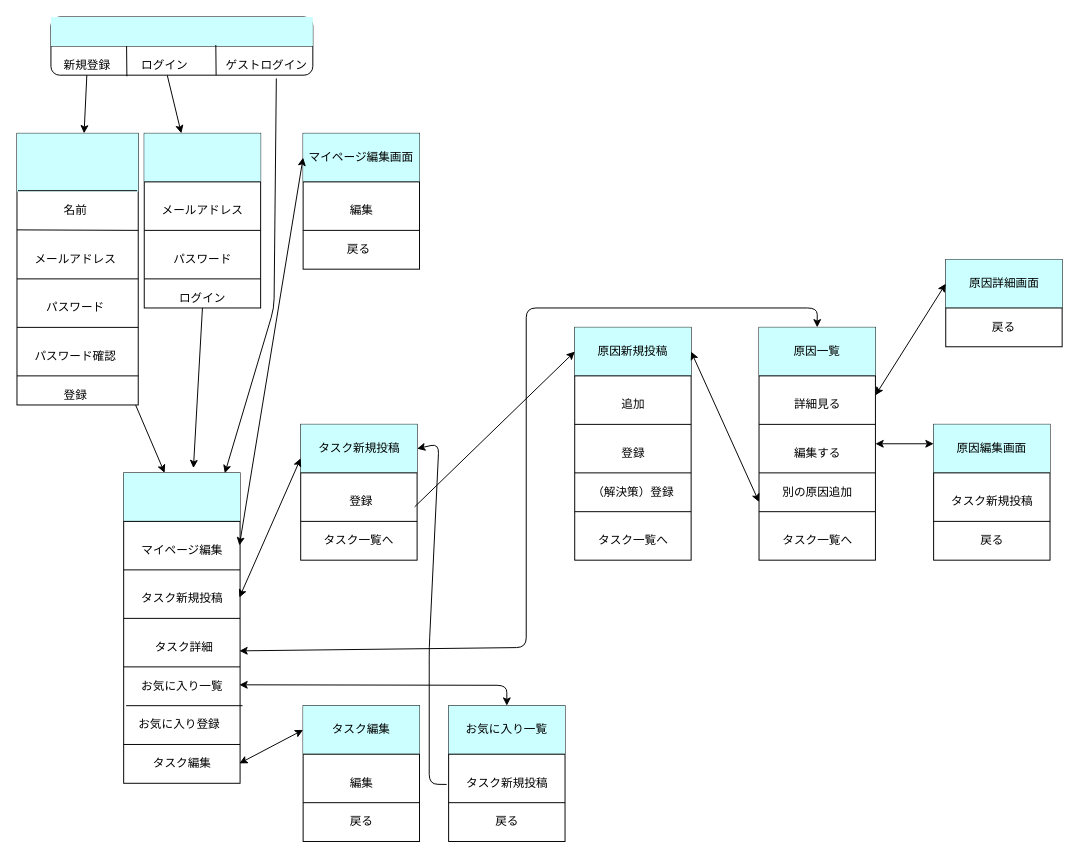
The diagram is 1081 pixels wide and 858 high, and some of its shapes have lost their labels. The shapes that lost their labels are listed below. From the top down, each one's centre as x and y in pixels, then its label:
At [181,31]: "グローバルナビゲーション".
At [77,162]: "新規登録画面".
At [202,157]: "ログイン画面".
At [181,496]: "ユーザトップ画面 （タスク一覧画面）".
